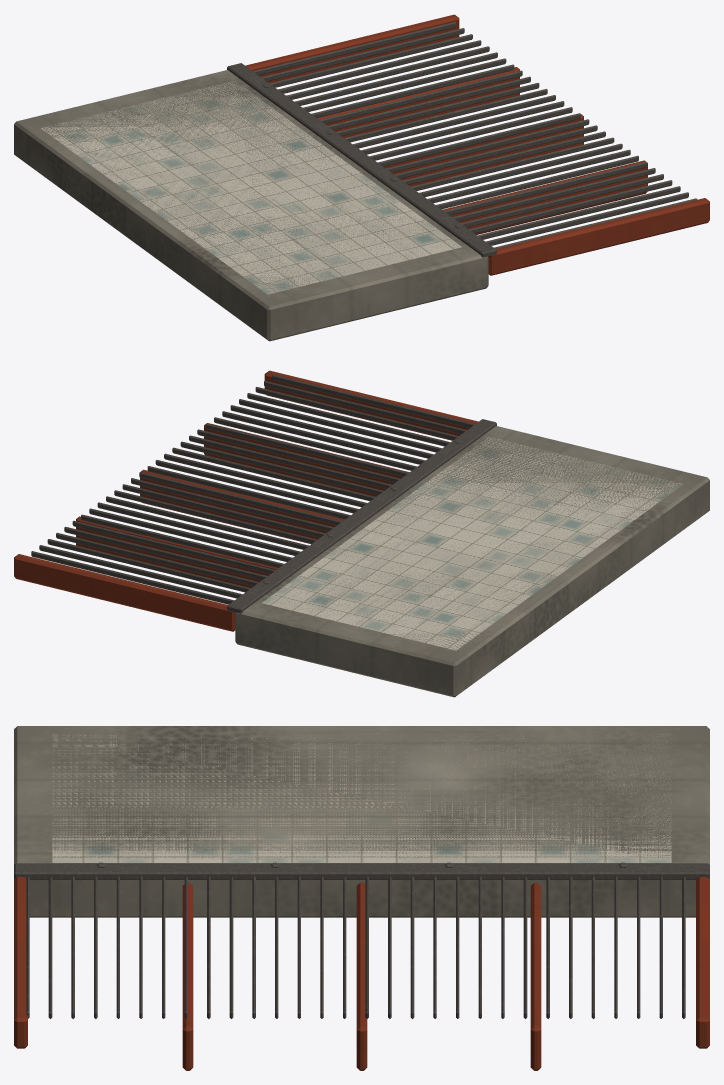
Rendered from WK_FLOOR_TRANSITION_A_01.glb.
3 views of the same model, one above another, from view 1: azimuth 30°, elevation 25°; view 2: azimuth 150°, elevation 25°; view 3: azimuth 270°, elevation 25° (orthographic). The views are drawn at different scales.
Parts seen in each view (by area): view 1: WK_FLOOR_TRANSITION_A_01; view 2: WK_FLOOR_TRANSITION_A_01; view 3: WK_FLOOR_TRANSITION_A_01.
Part boxes in pixels (x1,y1,x2,y2): WK_FLOOR_TRANSITION_A_01: (14,14,709,341); WK_FLOOR_TRANSITION_A_01: (14,370,709,697); WK_FLOOR_TRANSITION_A_01: (14,726,709,1070).
Size of the model in its own units: 4 by 0.39 by 4.
4 materials, 4 textured.
